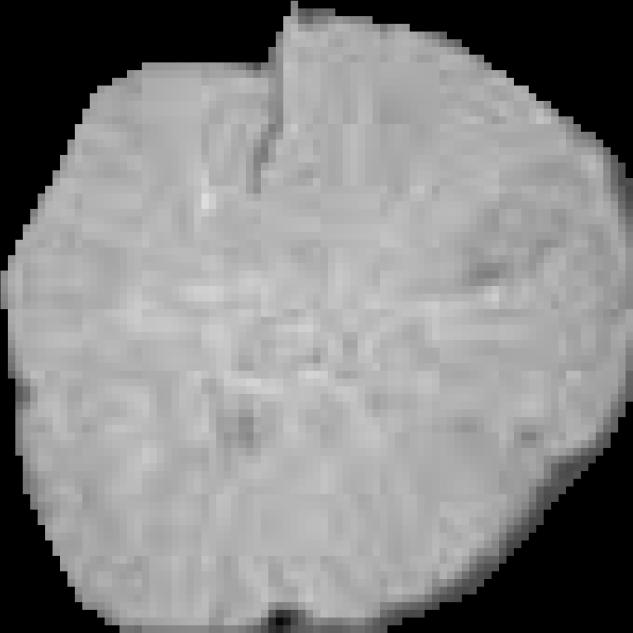tumor_moderate_chance: (0, 1, 633, 633)
